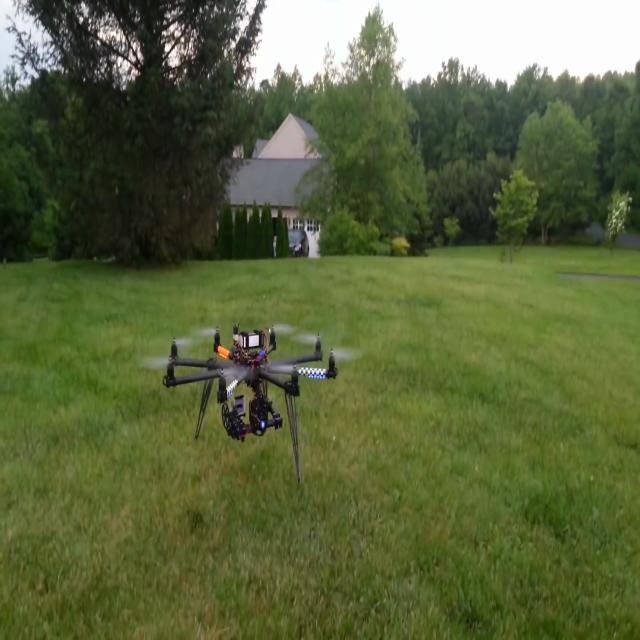drone: (141, 300, 345, 491)
